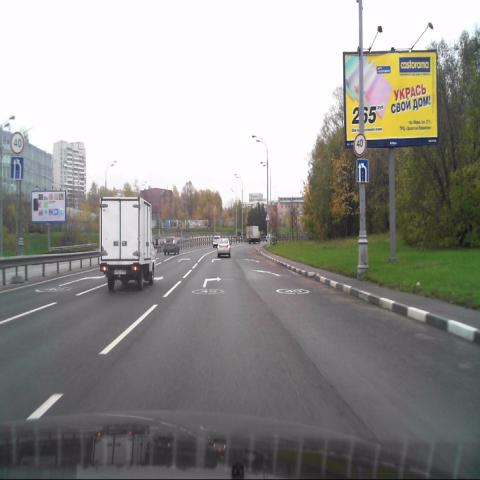5_15_5: (356, 160, 369, 184)
